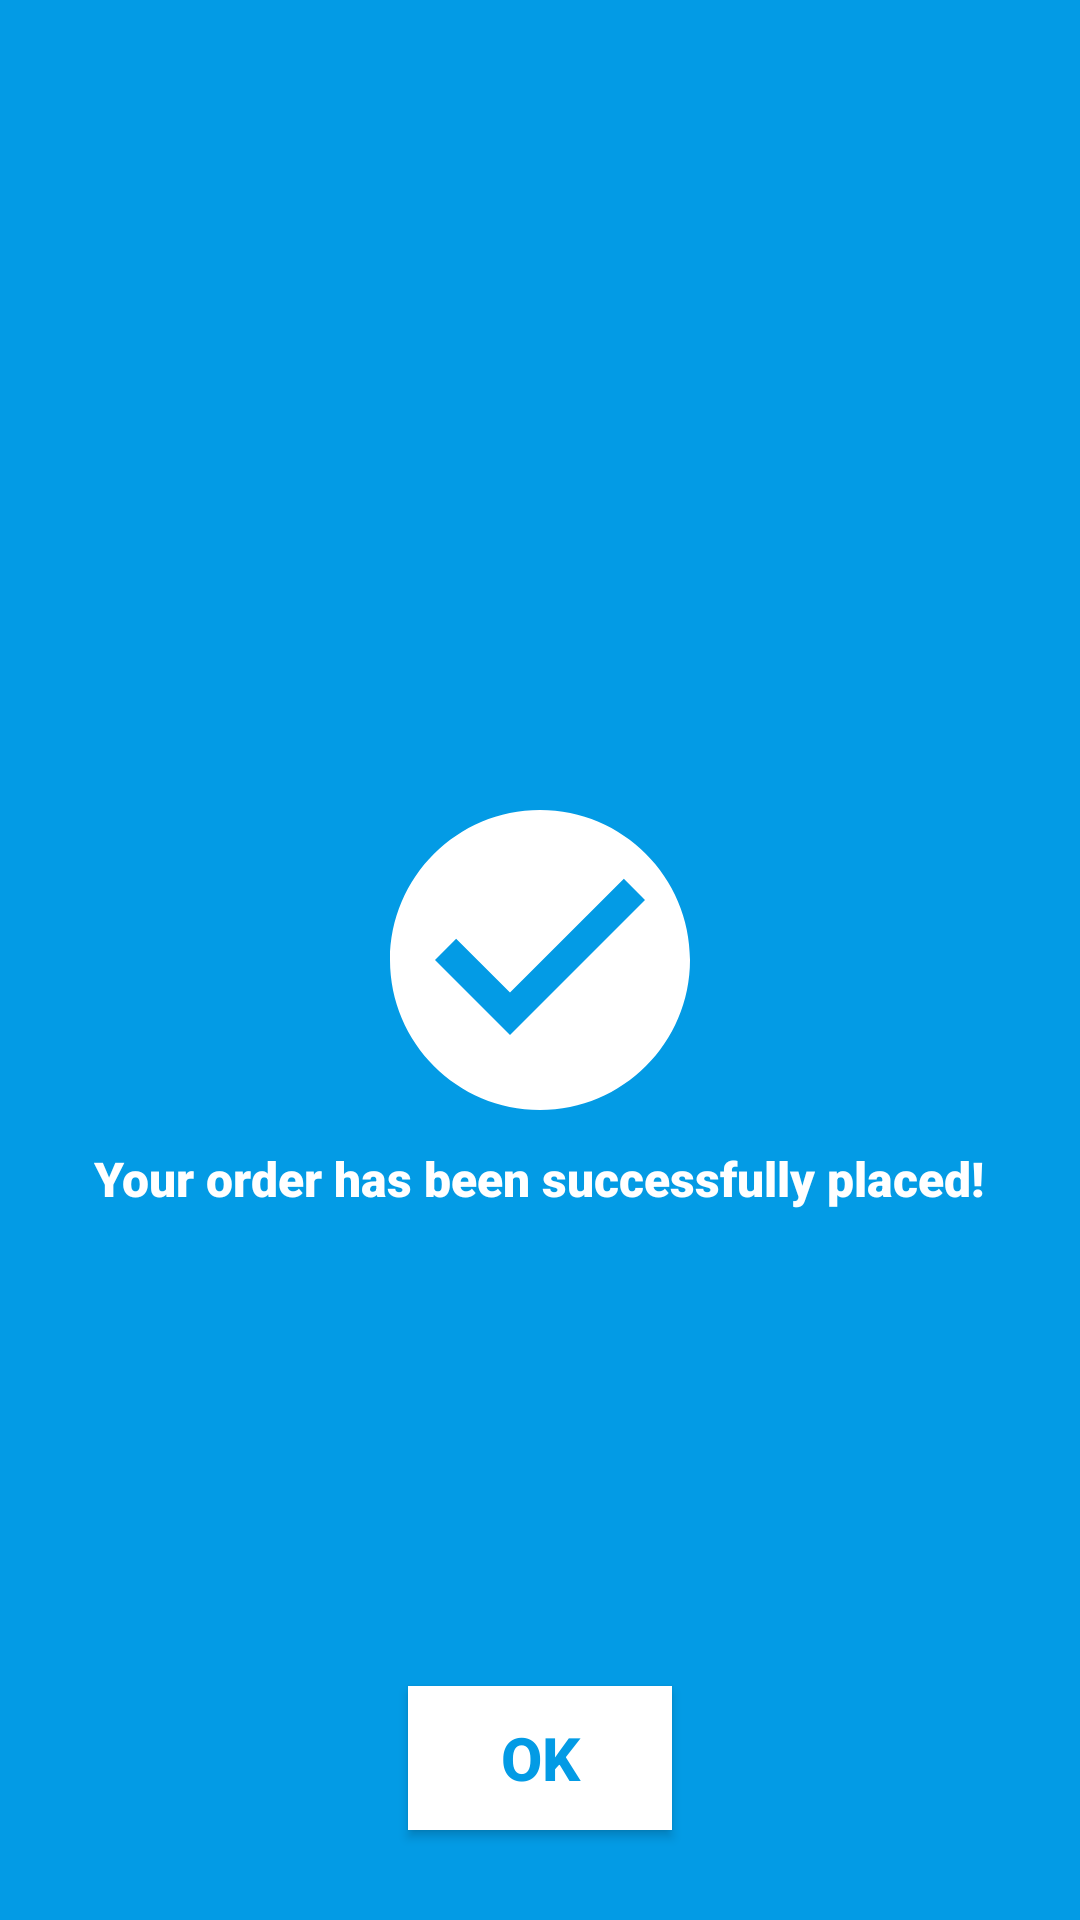

Icons on this 1080px x 1920px Android screen, each with the point to tap as (x=x, y=y):
Done: (x=540, y=960)
